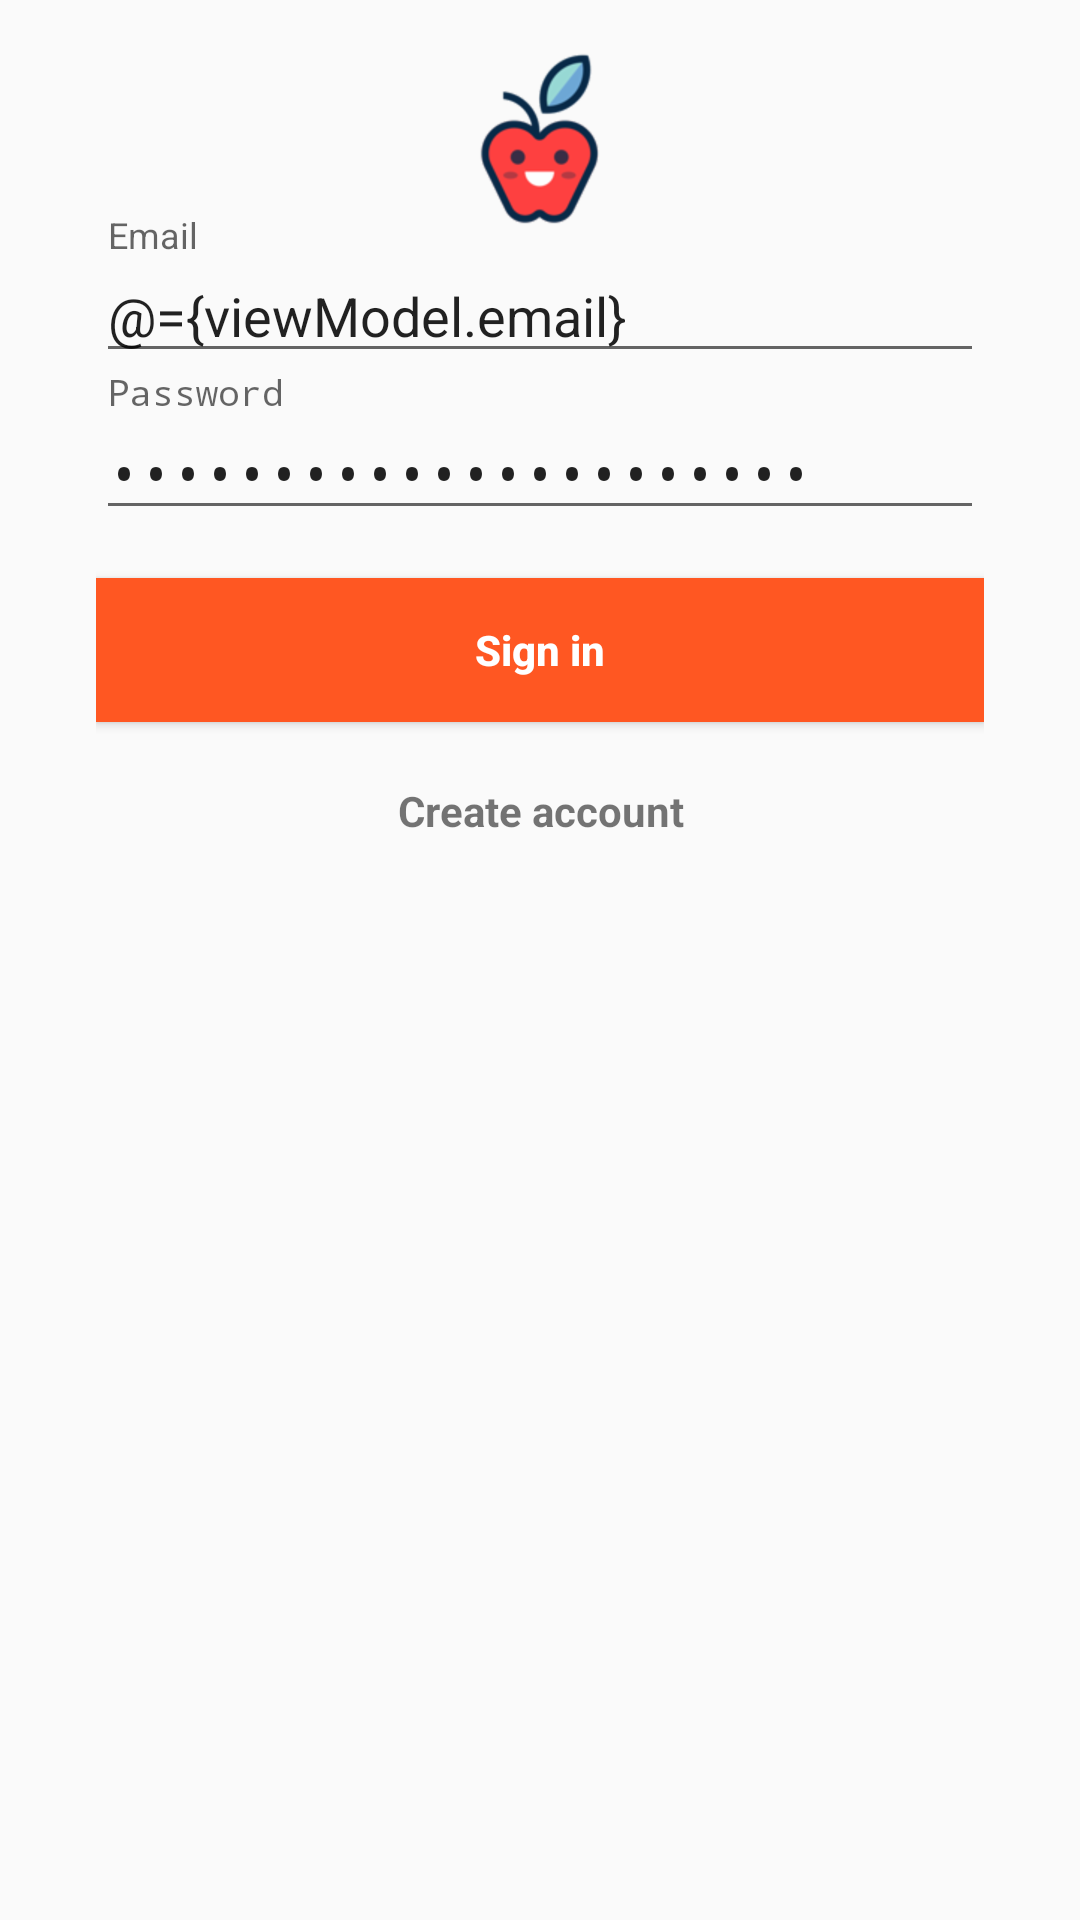

Icons on this 1080*1920 Android screen, each with the point to tap as (x=x, y=y):
apple: (x=539, y=139)
